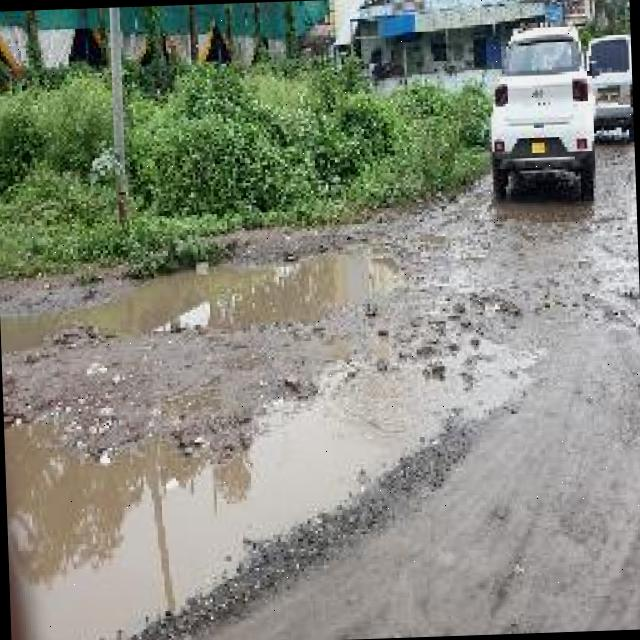stagnation: (0, 213, 462, 640)
